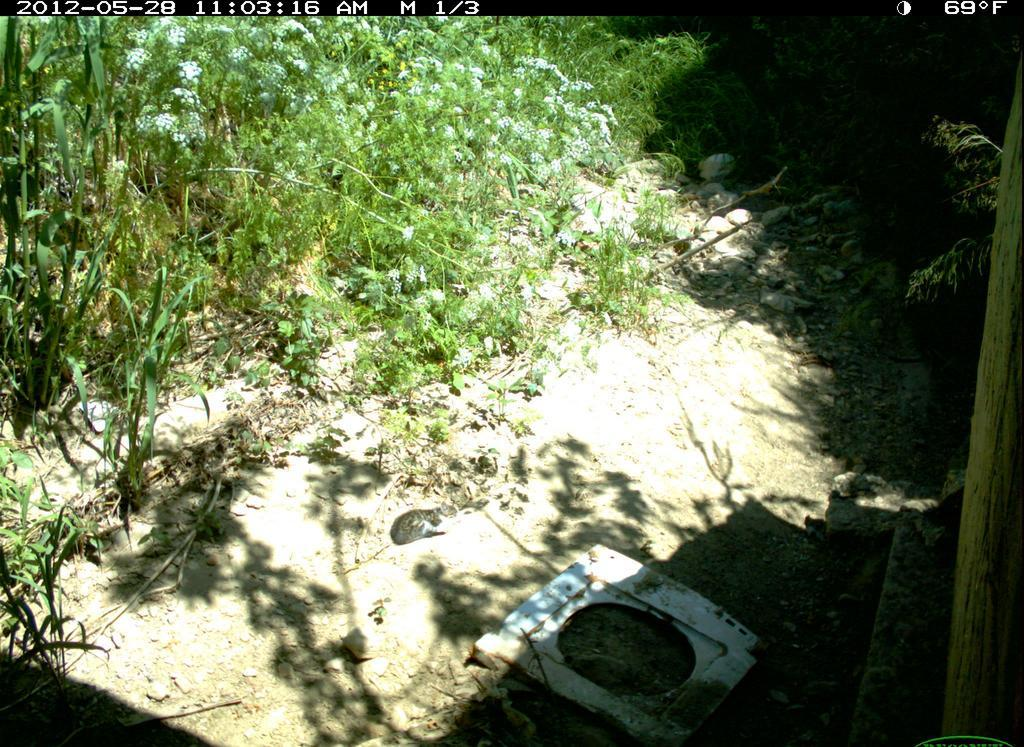cat: (387, 498, 463, 552)
